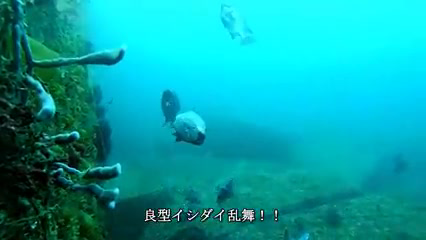smallfish: (169, 109, 209, 145)
